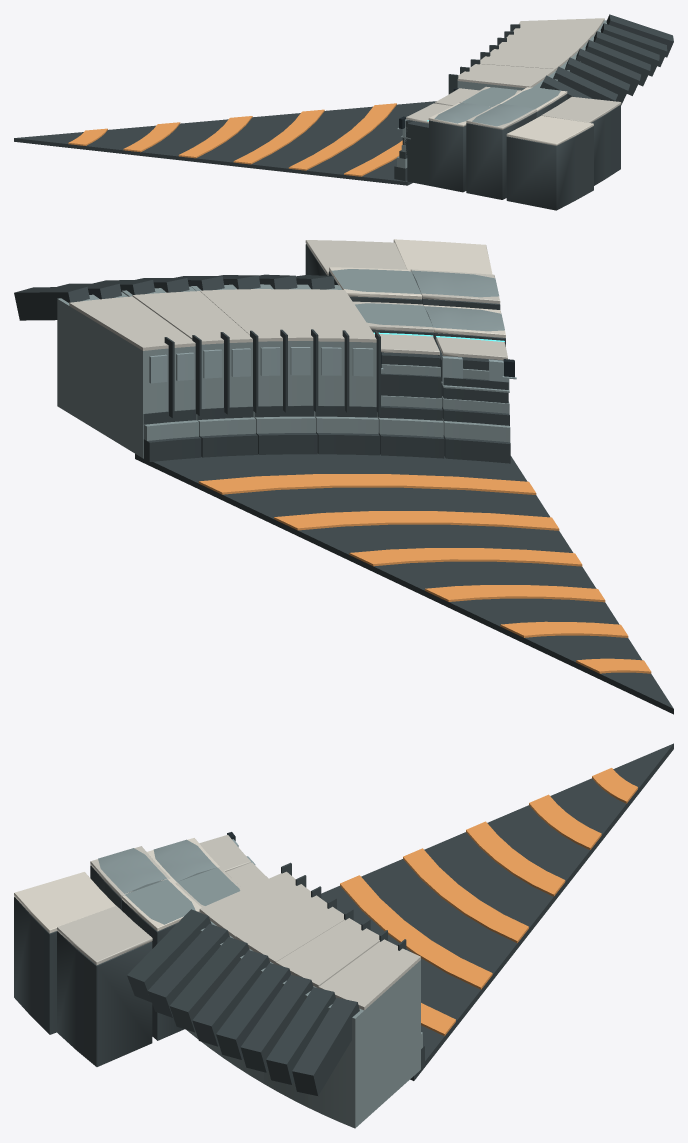
The model's file is Weather_Lung_Sector_10_Structure.glb.
3 views of the same model, one above another, from view 1: azimuth 30°, elevation 25°; view 2: azimuth 150°, elevation 25°; view 3: azimuth 270°, elevation 25° (orthographic). The views are drawn at different scales.
Parts seen in each view (by area): view 1: Weather_Lung_Sector_10_Structure; view 2: Weather_Lung_Sector_10_Structure; view 3: Weather_Lung_Sector_10_Structure.
Boxes of the visible parts, left/top/right/bottom form: Weather_Lung_Sector_10_Structure: left=14, top=14, right=673, bottom=210; Weather_Lung_Sector_10_Structure: left=14, top=239, right=673, bottom=714; Weather_Lung_Sector_10_Structure: left=14, top=743, right=673, bottom=1128.
Bounding box in the file's own units: 10817 × 1548 × 7235.
